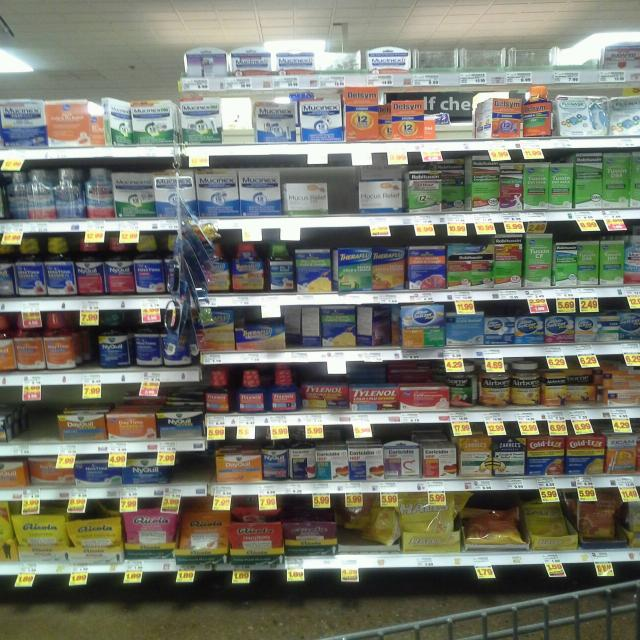empty: (416, 41, 607, 70), (438, 92, 484, 142), (16, 390, 57, 442), (168, 447, 214, 489), (314, 48, 358, 75), (332, 179, 359, 219)
